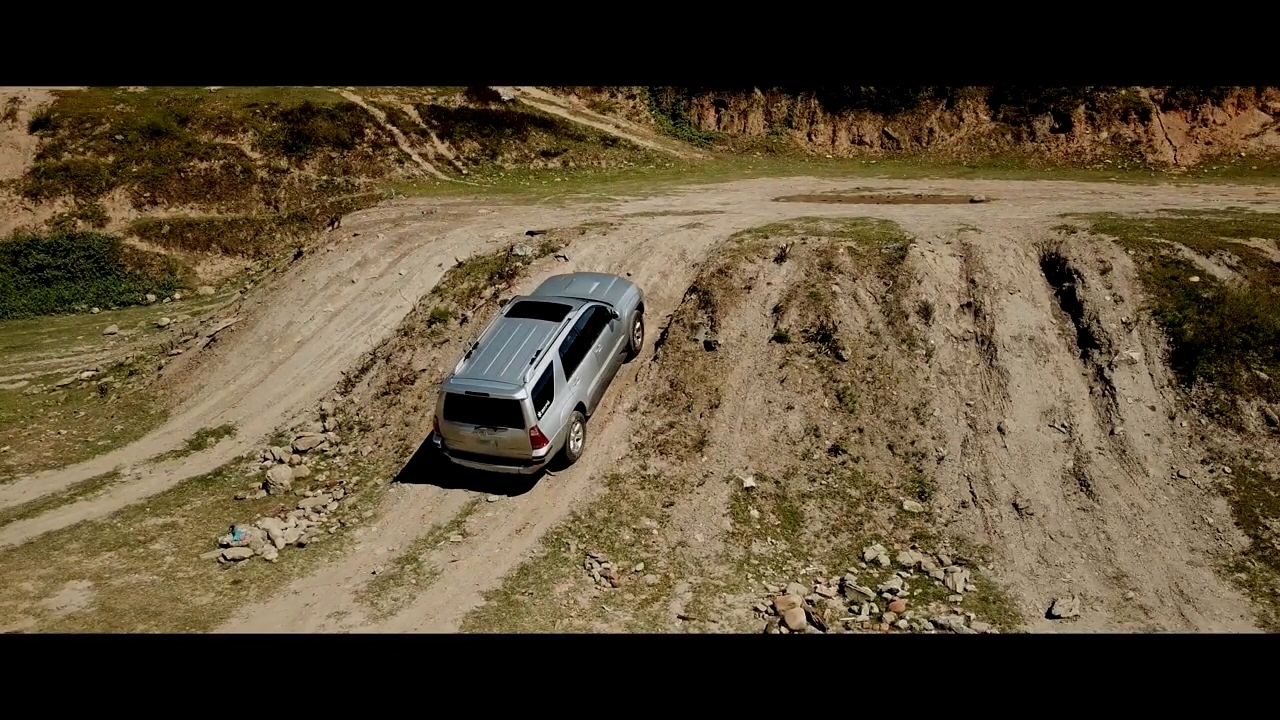araba: (433, 270, 644, 484)
